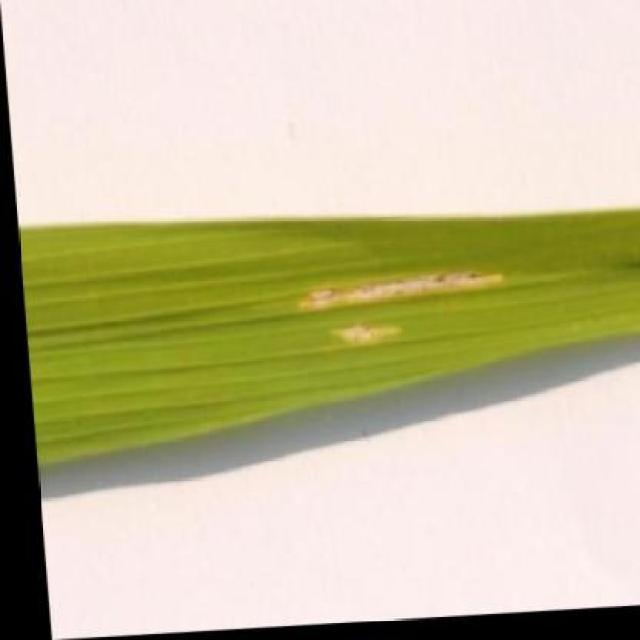Brown_Spot: (12, 165, 640, 502)
